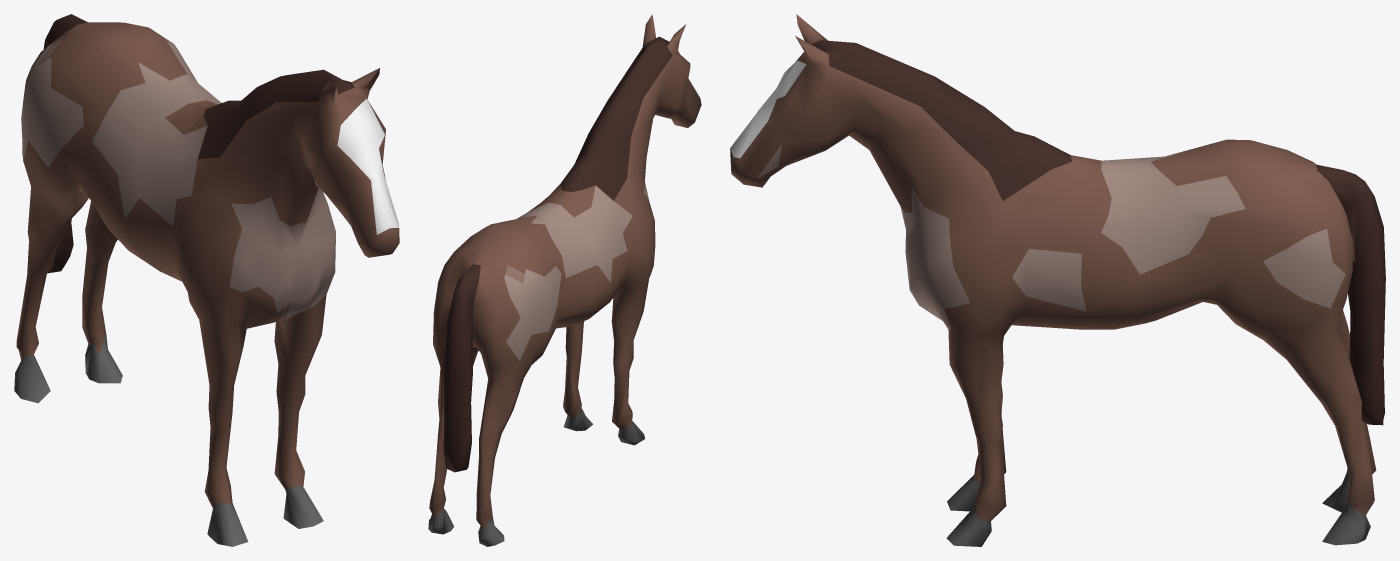
Rendered from horse_003.glb.
The picture shows the model from 3 angles, left to right: view 1: azimuth 30°, elevation 25°; view 2: azimuth 150°, elevation 25°; view 3: azimuth 270°, elevation 25°; orthographic projection. The views are drawn at different scales.
Parts seen in each view (by area): view 1: horse_003; view 2: horse_003; view 3: horse_003.
Part boxes in pixels (x1,y1,x2,y2): horse_003: [14, 14, 399, 546]; horse_003: [428, 14, 701, 546]; horse_003: [730, 14, 1385, 546].
Bounding box in the file's own units: 0.6708 × 2.25 × 2.69.
Materials: 1 (1 with a texture image).
